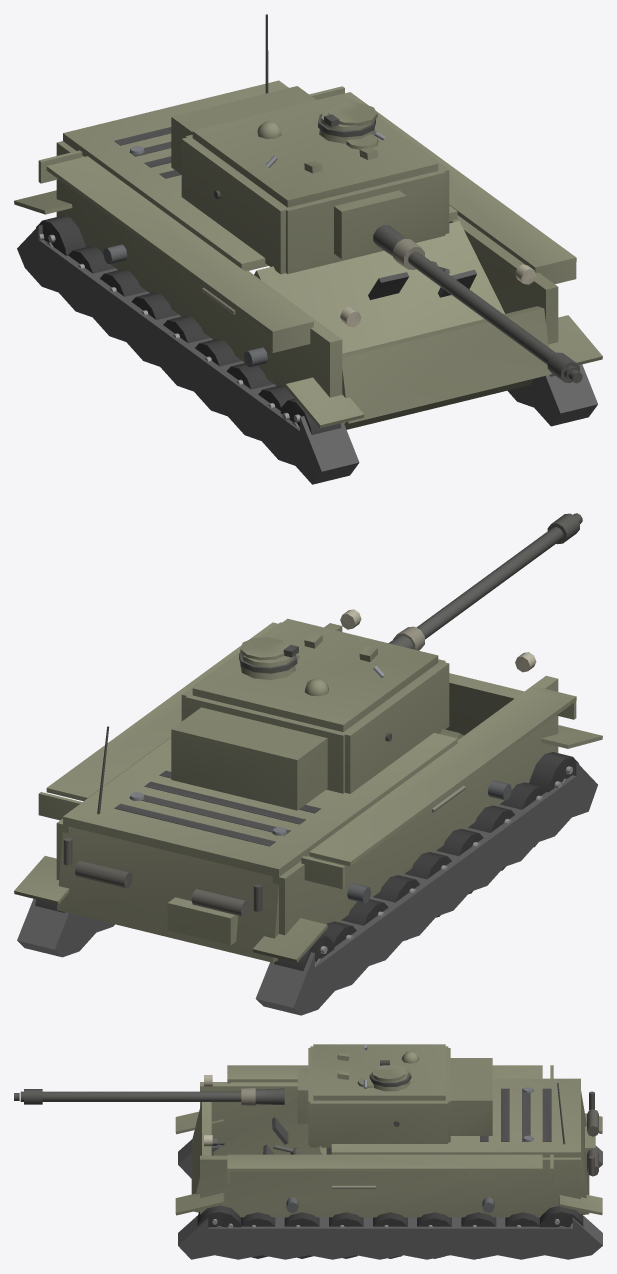
3 views of the same model, one above another, from view 1: azimuth 30°, elevation 25°; view 2: azimuth 150°, elevation 25°; view 3: azimuth 270°, elevation 25° (orthographic). The views are drawn at different scales.
Visible parts, largest first — view 1: hullSide, tracks, turretRoof, glacis, lowerPlate, hullTop, turretFront, turretSide, barrel, mantlet, wheel8, wheel2 (+6 smaller); view 2: hullSide, tracks, hullTop, hullRear, turretRoof, turretFront, turretSide, barrel, turretRear, lowerPlate, wheel7, wheel5 (+6 smaller); view 3: hullSide, tracks, hullTop, turretRoof, turretSide, turretFront, barrel, glacis, hullRear, lowerPlate, wheel16, wheel17 (+9 smaller).
Part boxes in pixels (bbox=[...]): hullSide: bbox=[38, 86, 576, 397]; tracks: bbox=[14, 190, 602, 484]; turretRoof: bbox=[192, 94, 438, 207]; glacis: bbox=[254, 221, 533, 429]; lowerPlate: bbox=[342, 306, 551, 423]; hullTop: bbox=[63, 80, 457, 270]; turretFront: bbox=[171, 86, 445, 273]; turretSide: bbox=[181, 97, 449, 274]; barrel: bbox=[373, 225, 582, 383]; mantlet: bbox=[334, 190, 406, 258]; wheel8: bbox=[36, 215, 85, 255]; wheel2: bbox=[131, 292, 178, 319]; hullSide: bbox=[38, 609, 576, 935]; tracks: bbox=[14, 725, 602, 1015]; hullTop: bbox=[63, 733, 457, 877]; hullRear: bbox=[57, 726, 278, 962]; turretRoof: bbox=[192, 618, 438, 732]; turretFront: bbox=[171, 659, 445, 810]; turretSide: bbox=[181, 622, 449, 793]; barrel: bbox=[388, 513, 582, 650]; turretRear: bbox=[185, 696, 348, 793]; lowerPlate: bbox=[445, 673, 523, 735]; wheel7: bbox=[528, 752, 579, 792]; wheel5: bbox=[468, 805, 515, 870]; hullSide: bbox=[200, 1065, 580, 1217]; tracks: bbox=[175, 1111, 602, 1259]; hullTop: bbox=[331, 1078, 580, 1157]; turretRoof: bbox=[313, 1044, 445, 1100]; turretSide: bbox=[310, 1046, 448, 1147]; turretFront: bbox=[308, 1048, 492, 1145]; barrel: bbox=[14, 1087, 284, 1106]; glacis: bbox=[213, 1097, 326, 1155]; hullRear: bbox=[557, 1083, 598, 1214]; lowerPlate: bbox=[191, 1102, 211, 1212]; wheel16: bbox=[197, 1205, 240, 1228]; wheel17: bbox=[539, 1206, 583, 1228].
Bounding box in the file's own units: 4.43 × 3.18 × 10.67.
